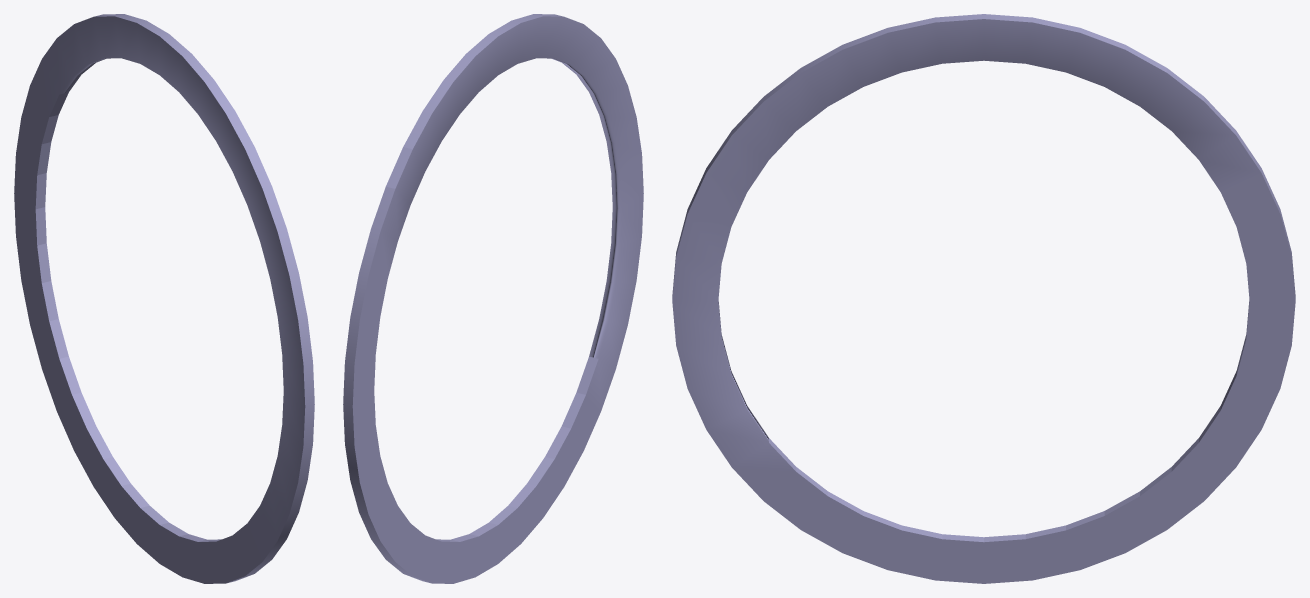
The model's file is Disk_02.fbx.
The picture shows the model from 3 angles, left to right: view 1: azimuth 30°, elevation 25°; view 2: azimuth 150°, elevation 25°; view 3: azimuth 270°, elevation 25°; orthographic projection. The views are drawn at different scales.
Parts seen in each view (by area): view 1: Disk_02; view 2: Disk_02; view 3: Disk_02.
Part boxes in pixels (<box>): Disk_02: <box>14,14,314,583</box>; Disk_02: <box>343,14,643,583</box>; Disk_02: <box>672,14,1295,583</box>.
Bounding box in the file's own units: 1.69 × 88.49 × 88.49.
